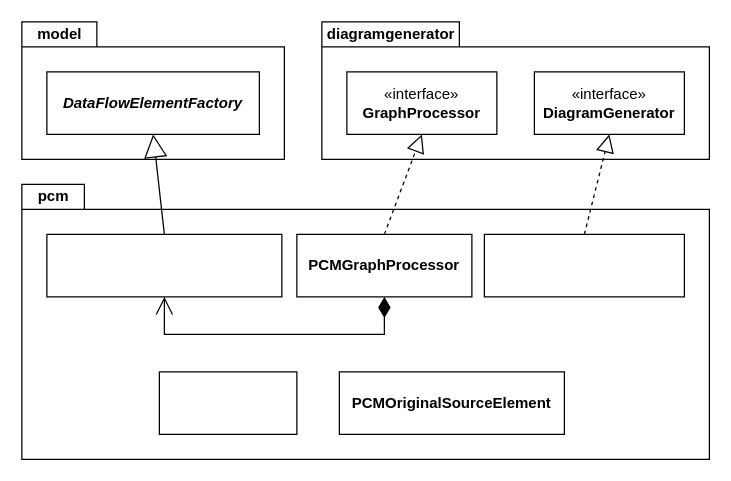
Some shapes in this 731 by 481 pixel diagram are drawn without their labels. The centre of each missing label's shape, as x and y in pixels:
"PCMDataFlowElementFactory" goes at (x=164, y=265).
"PCMDiagramGenerator" goes at (x=583, y=265).
"PCMEntityUtility" goes at (x=227, y=402).
